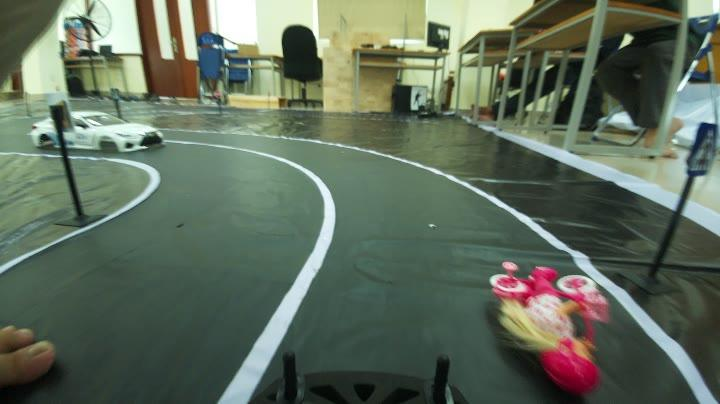crosswalk: (683, 120, 720, 176)
